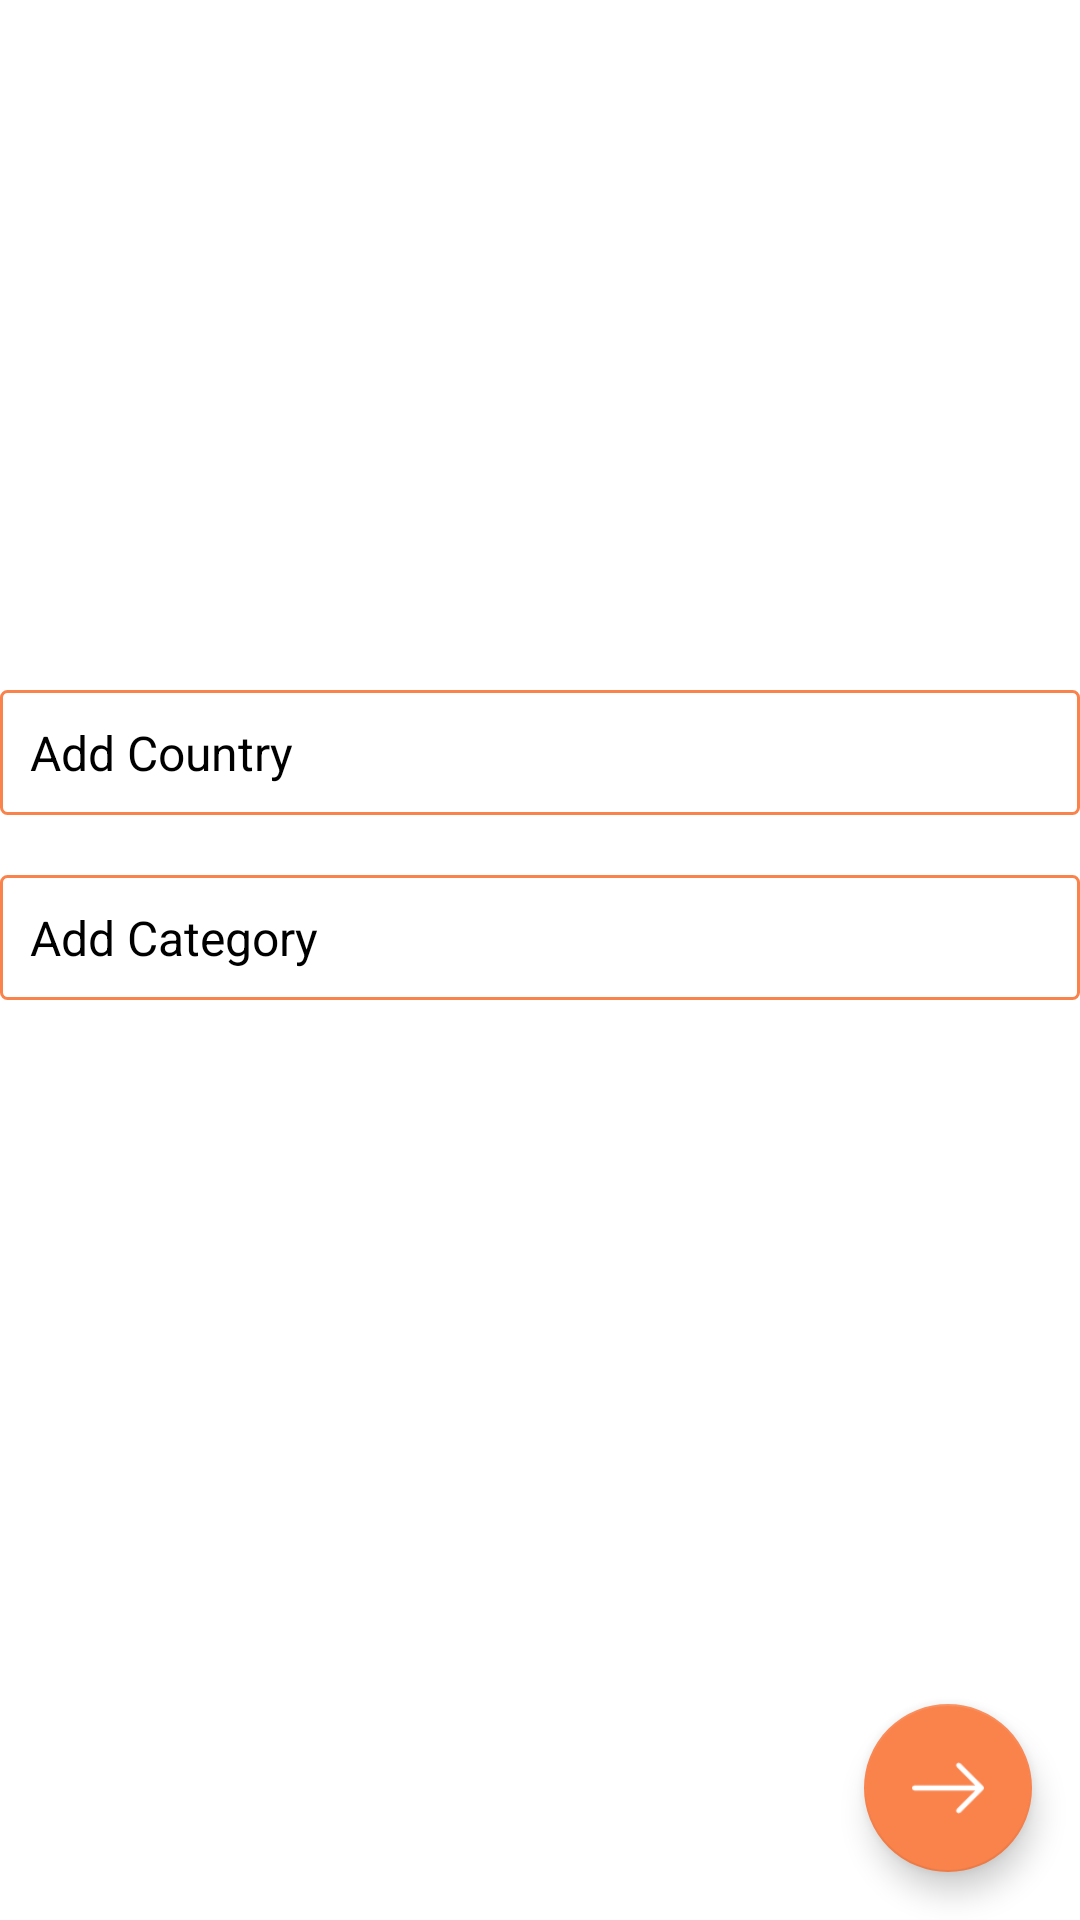

Where icons sit on this 1080 × 1920 app screen, as BBox(x1, y1, x2, y2):
next: BBox(864, 1704, 1032, 1872)
